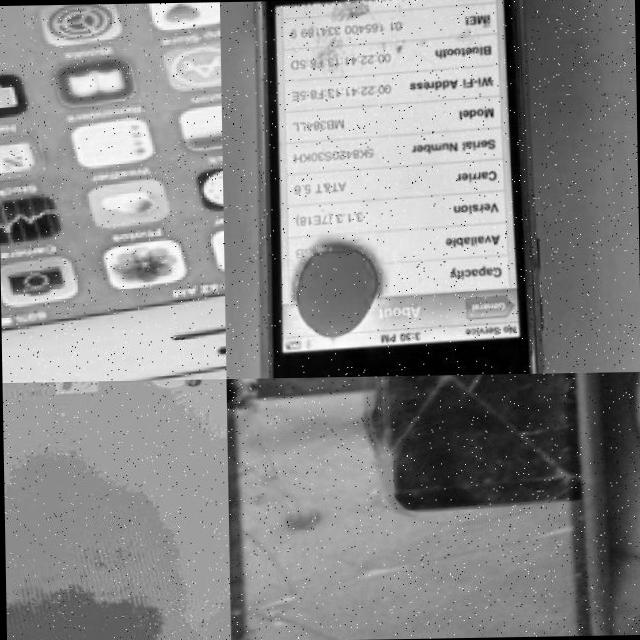dead pixel: (280, 230, 394, 366)
screen crack: (225, 372, 604, 640), (284, 0, 490, 91)
